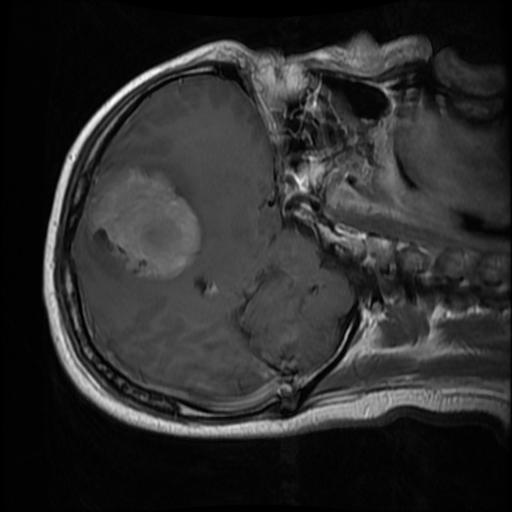meningioma: (84, 163, 201, 281)
